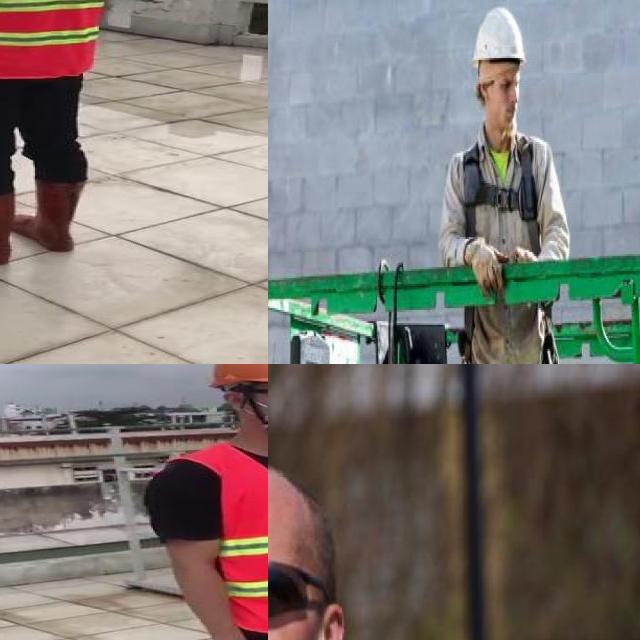Harness: (463, 139, 539, 254)
boots: (15, 180, 86, 251)
glasses: (268, 566, 331, 619)
head_nohelmet: (268, 472, 312, 539)
person: (136, 364, 268, 640), (0, 0, 135, 266), (268, 473, 465, 640)
vest: (210, 436, 268, 631), (0, 0, 127, 76)
